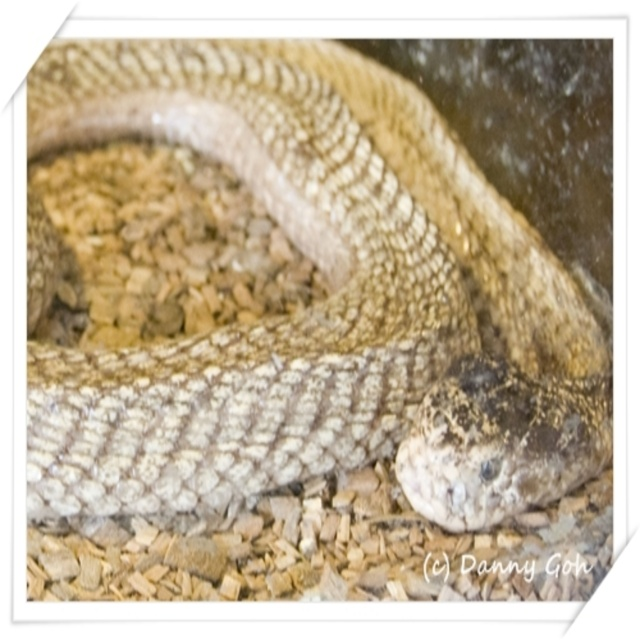Snake: (20, 33, 616, 537)
